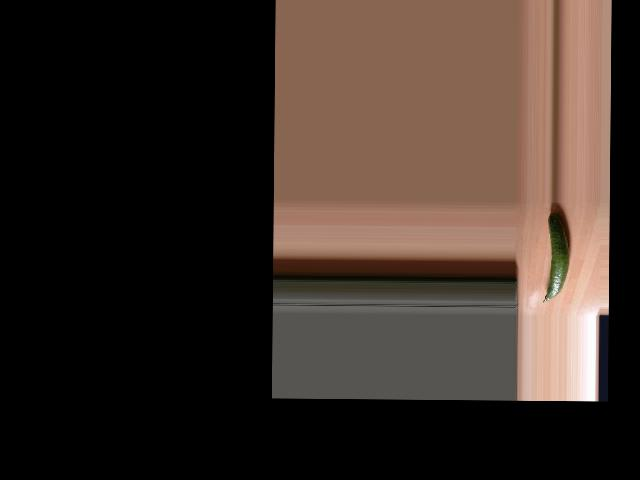cucumber: (543, 211, 570, 303)
